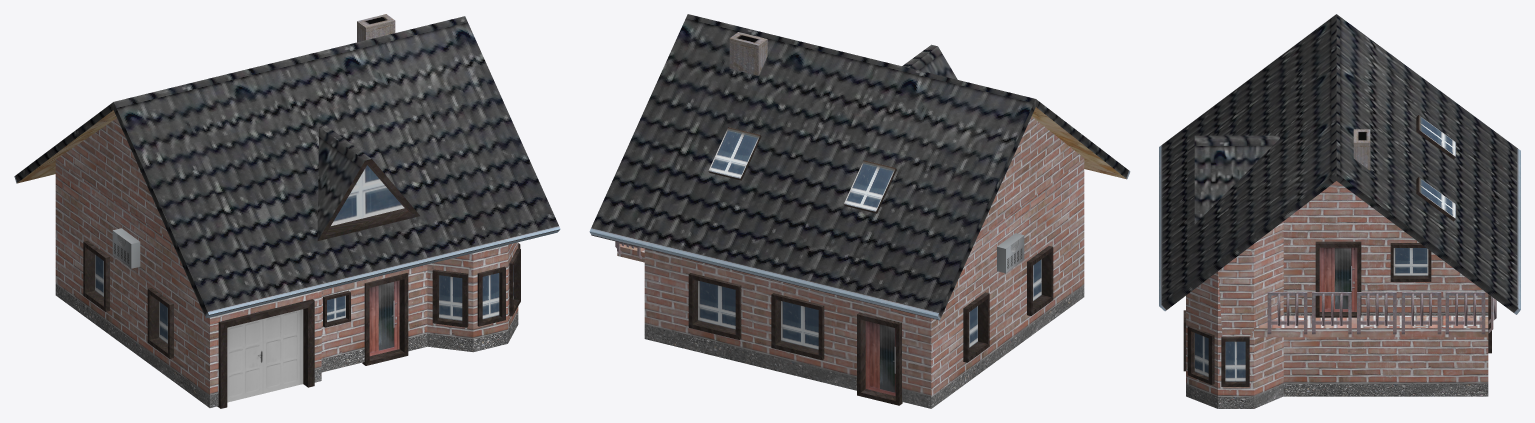
The model's file is family_house_01.glb.
The picture shows the model from 3 angles, left to right: view 1: azimuth 30°, elevation 25°; view 2: azimuth 150°, elevation 25°; view 3: azimuth 270°, elevation 25°; orthographic projection. The views are drawn at different scales.
Parts seen in each view (by area): view 1: house2_baked_Cube.038; view 2: house2_baked_Cube.038; view 3: house2_baked_Cube.038.
Part boxes in pixels (left/top/right/bottom): house2_baked_Cube.038: left=14, top=14, right=560, bottom=408; house2_baked_Cube.038: left=589, top=14, right=1130, bottom=408; house2_baked_Cube.038: left=1159, top=14, right=1520, bottom=408.
Size of the model in its own units: 2.95 by 2.13 by 2.83.
Materials: 1 (1 with a texture image).
